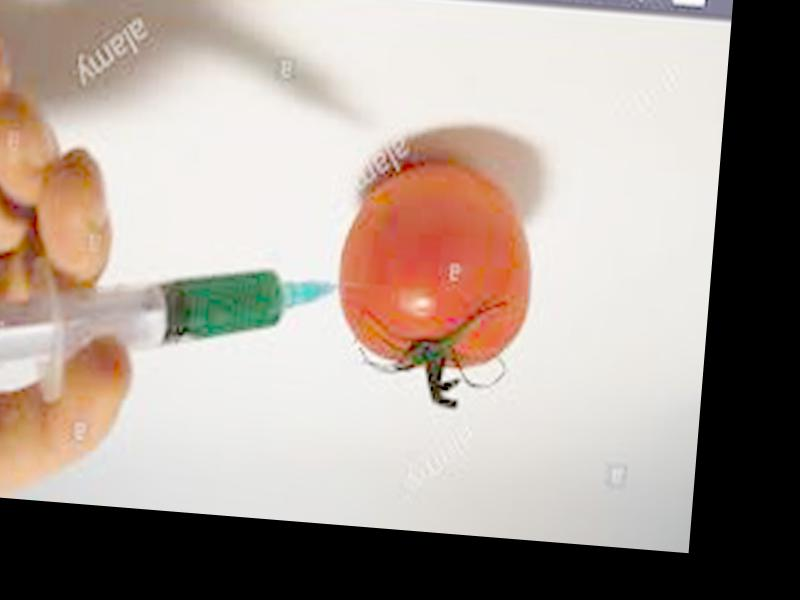Tomato: (332, 156, 537, 373)
